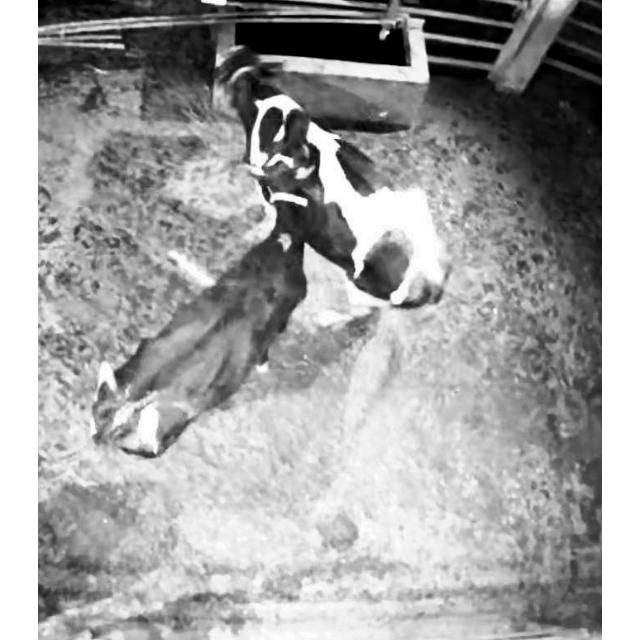propping: (222, 97, 360, 256)
